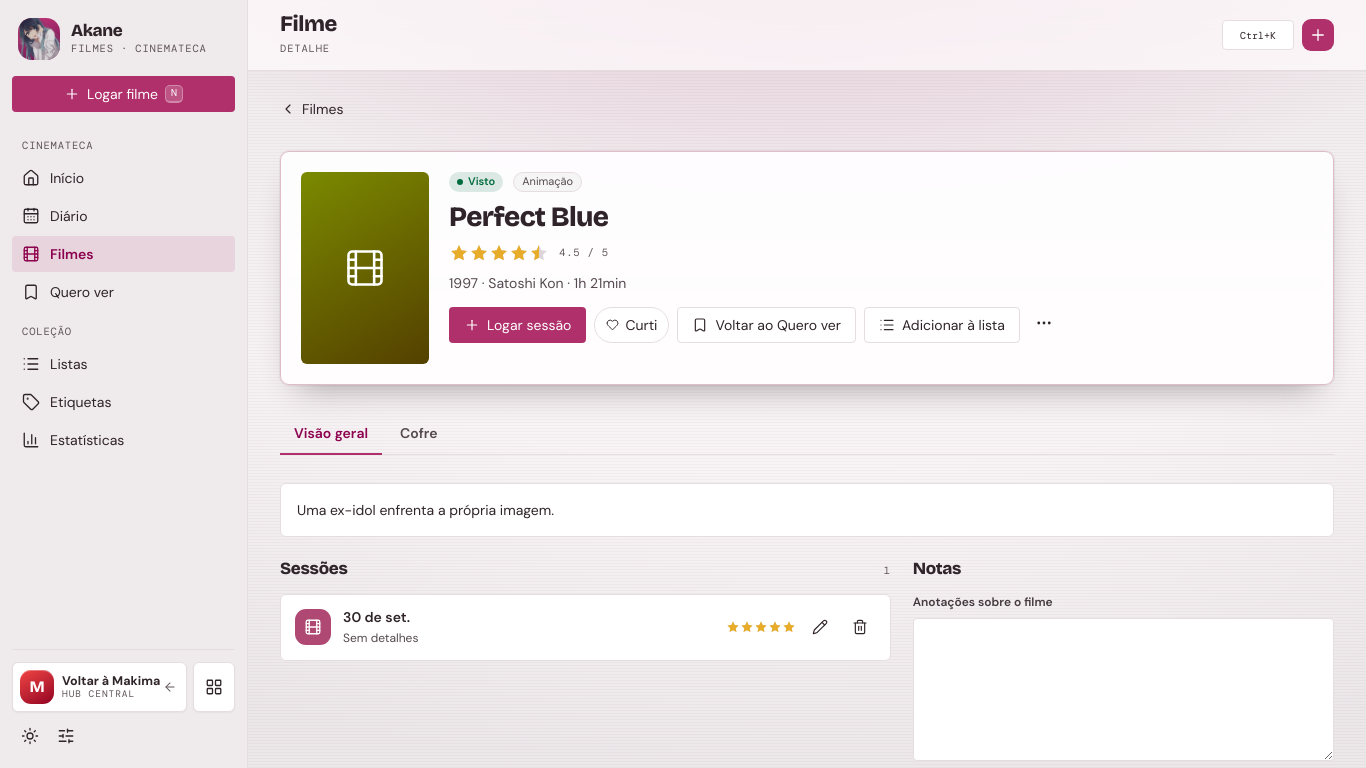
Scenario: payloads reais, com null › as sessões do detalhe abrem o editor mesmo sem etiquetas
Expected: the heading "Perfect Blue" is shown, [449, 200, 608, 234]
Step 1. Click the button named "Editar sessão de" → point(820, 628), box [804, 612, 836, 644]
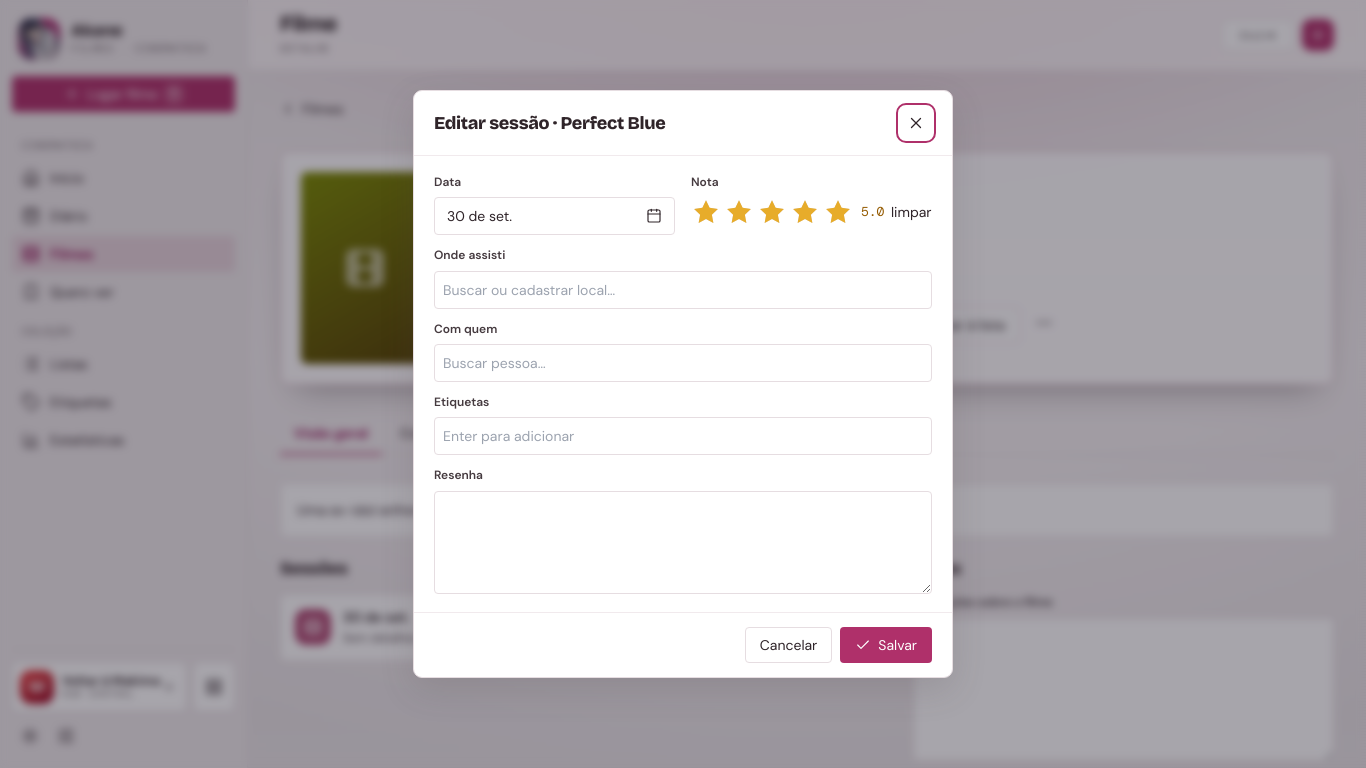
Expected: the dialog "Editar sessão" is shown, [413, 90, 953, 678]
